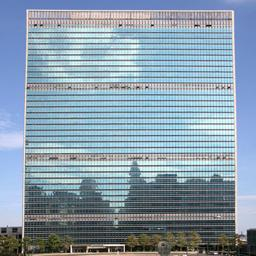building: (18, 0, 236, 256)
